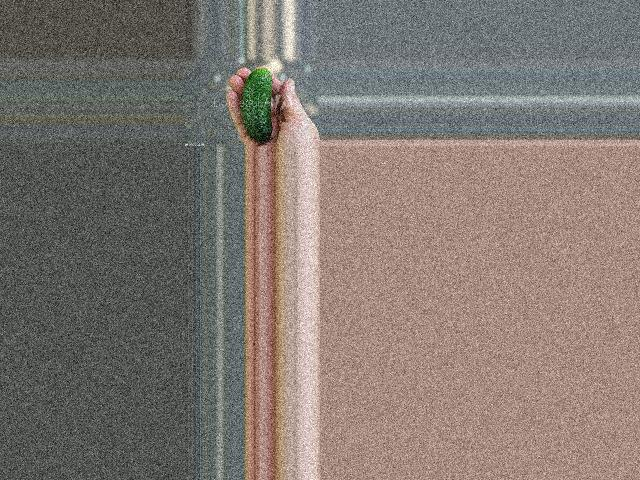cucumber: (239, 69, 271, 142)
